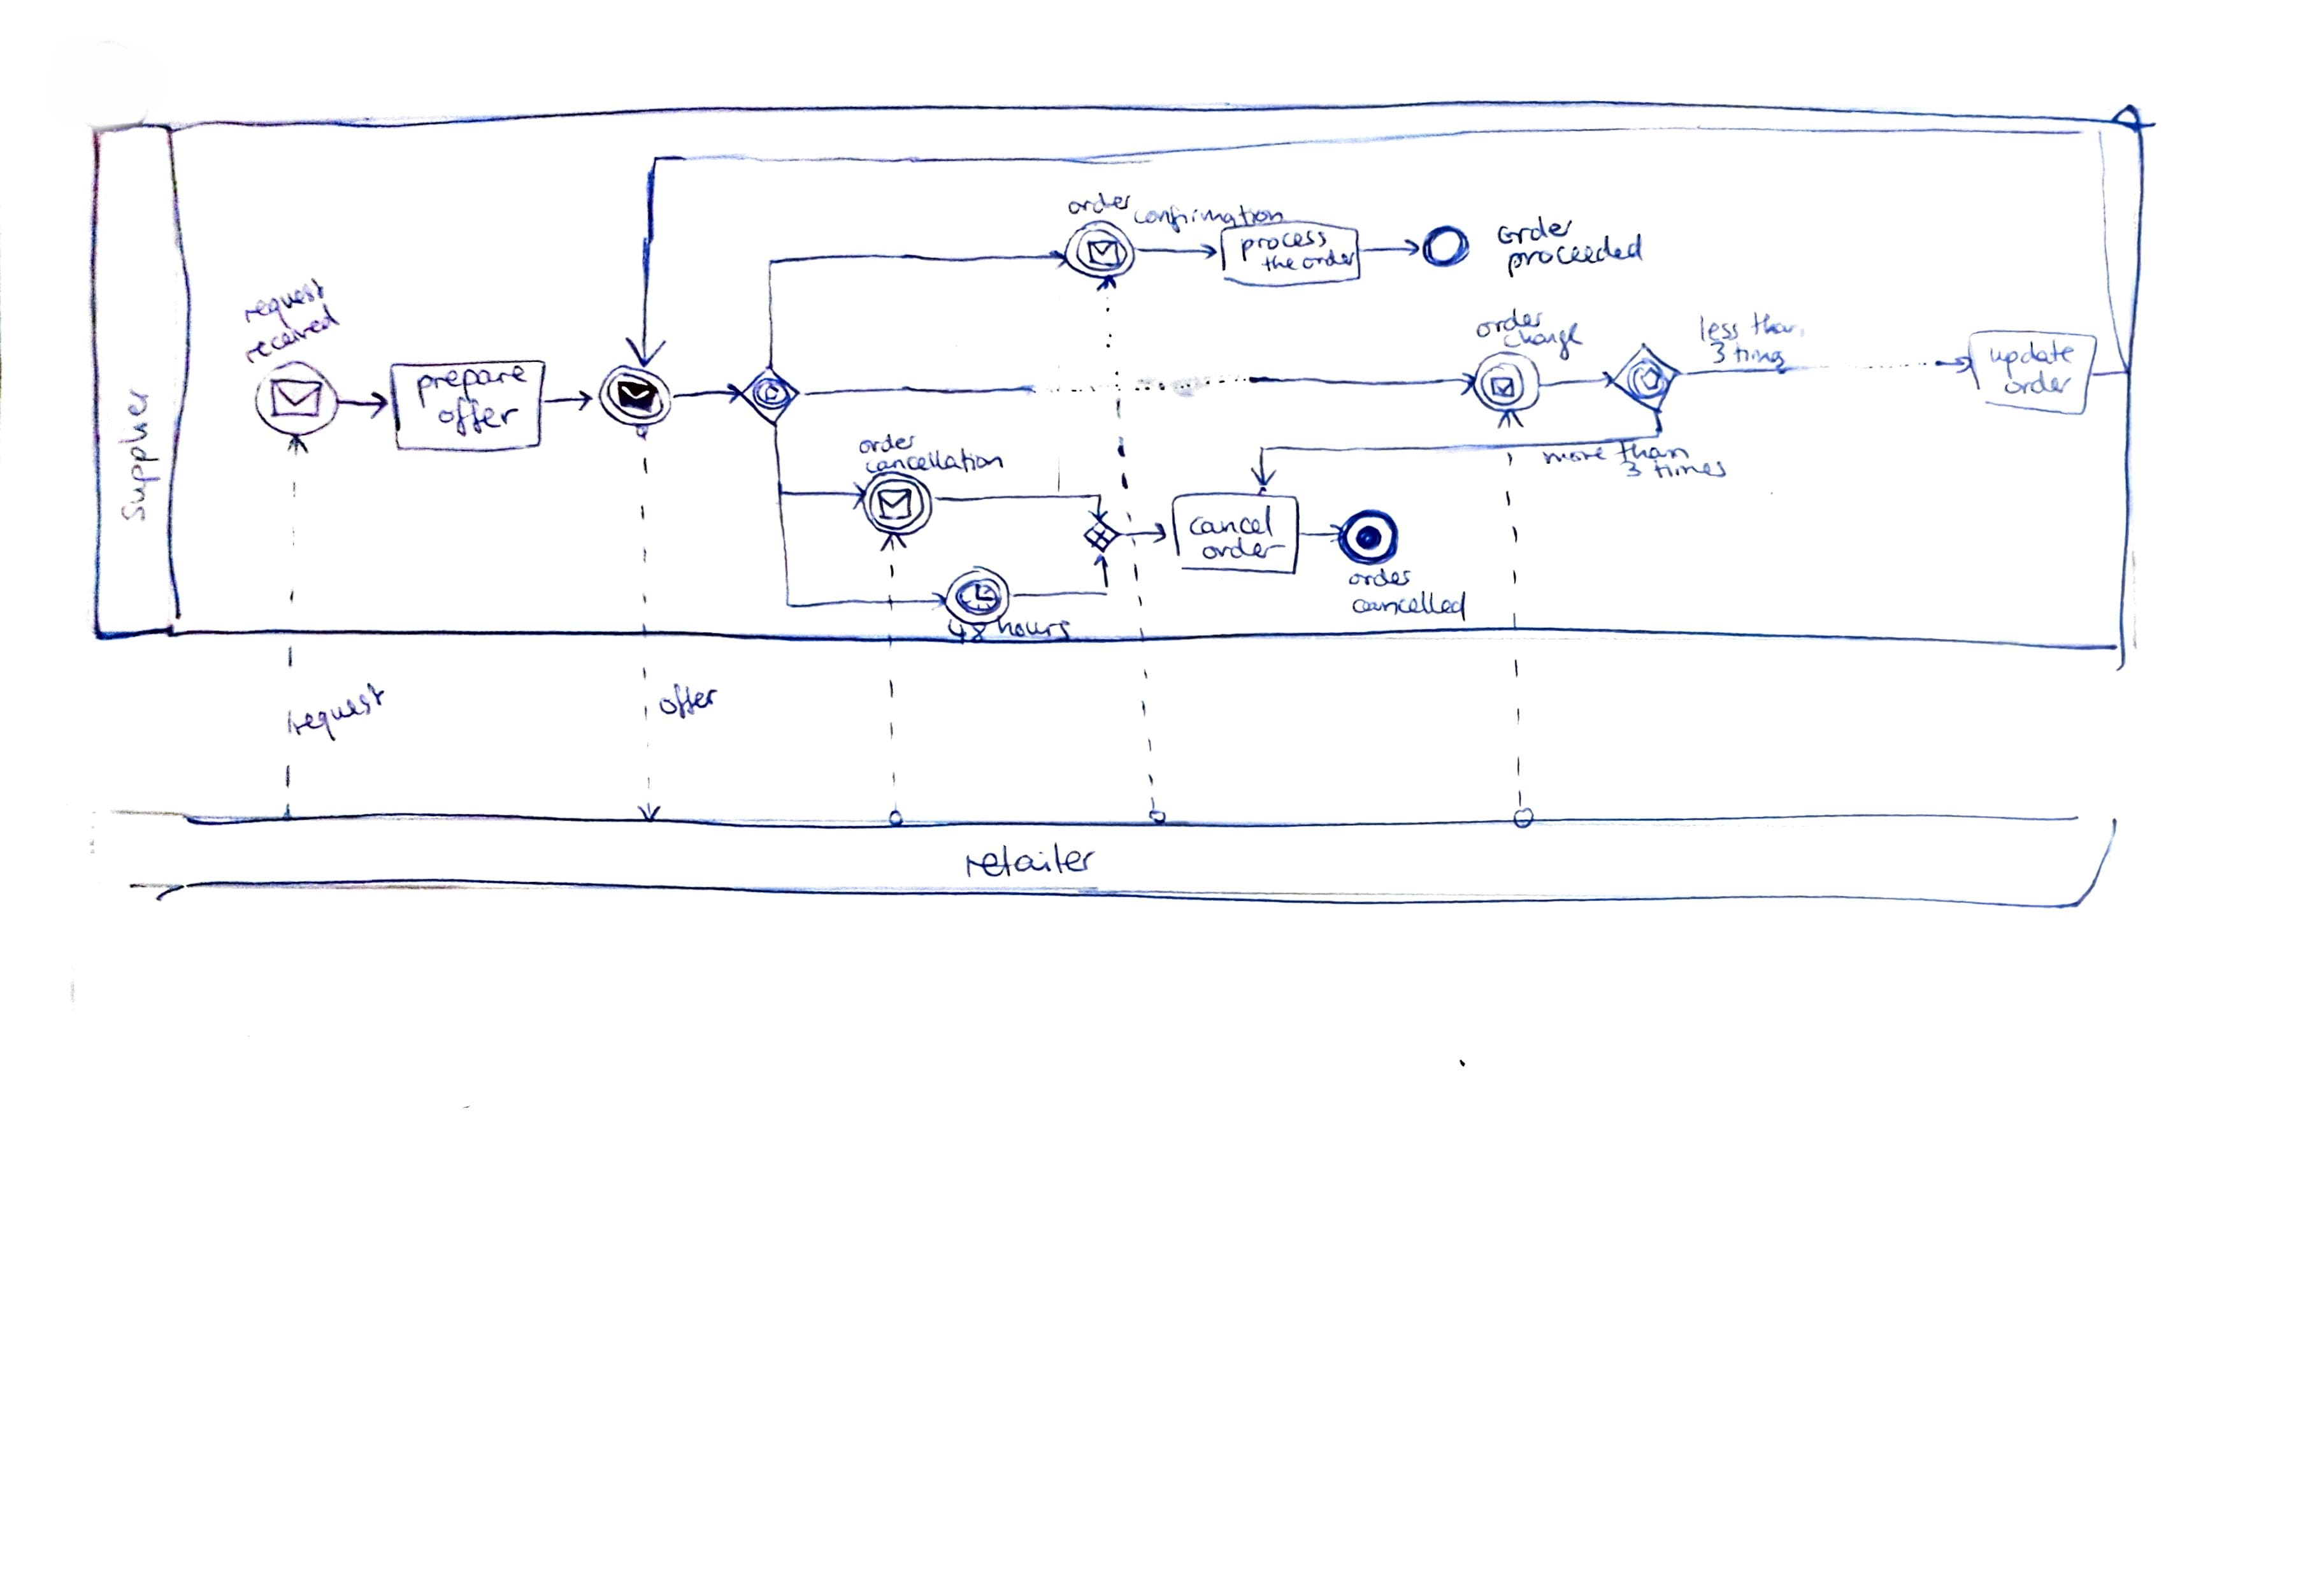3: (1711, 333, 1725, 364), (1622, 461, 1639, 482)
48: (946, 615, 988, 647)
Supplier: (119, 384, 159, 526)
cancel: (1189, 513, 1275, 540)
cancellation: (862, 449, 1007, 480)
cancelled: (1354, 592, 1468, 622)
change: (1504, 324, 1585, 352)
confirmation: (1131, 203, 1285, 226)
hours: (998, 612, 1072, 643)
less: (1694, 315, 1743, 345)
more: (1543, 442, 1613, 468)
offer: (651, 676, 725, 724), (438, 400, 524, 436)
order: (1497, 212, 1578, 251), (1478, 303, 1548, 342), (2007, 370, 2074, 400), (858, 429, 925, 457), (1205, 540, 1285, 562), (1349, 566, 1412, 591), (1299, 247, 1361, 272), (1070, 193, 1131, 217)
prepare: (417, 361, 525, 403)
proceeded: (1508, 230, 1646, 279)
process: (1242, 230, 1327, 256)
received: (242, 307, 342, 370)
request: (294, 680, 394, 745), (240, 275, 327, 329)
retailer: (961, 843, 1091, 883)
than: (1746, 310, 1806, 343), (1618, 443, 1692, 461)
the: (1261, 251, 1298, 275)
times: (1729, 342, 1793, 371), (1653, 457, 1729, 480)
update: (1989, 340, 2077, 373)
